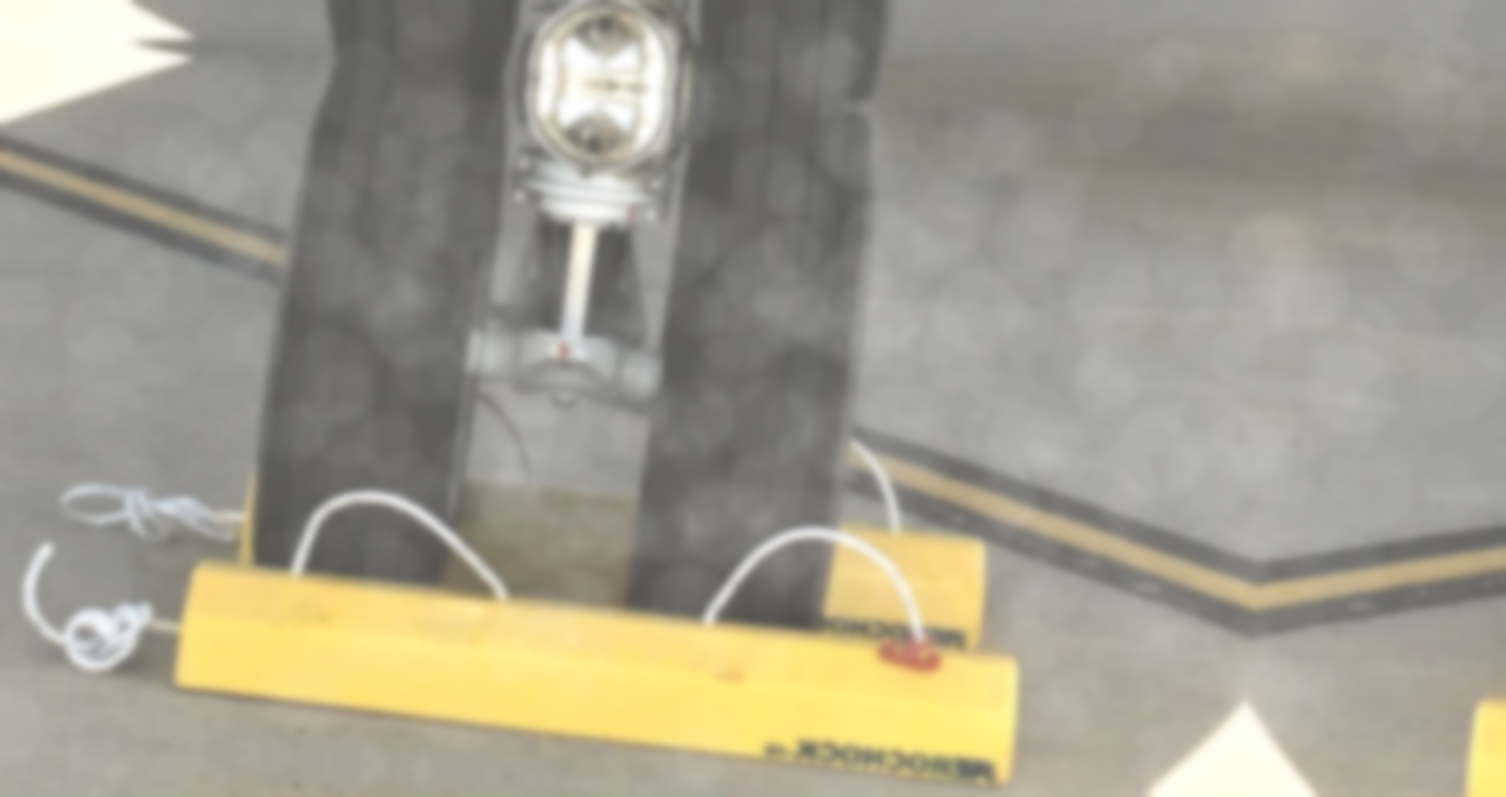chock: (172, 560, 1023, 790), (234, 463, 992, 648)
wheel: (250, 61, 518, 590), (631, 92, 885, 633)
